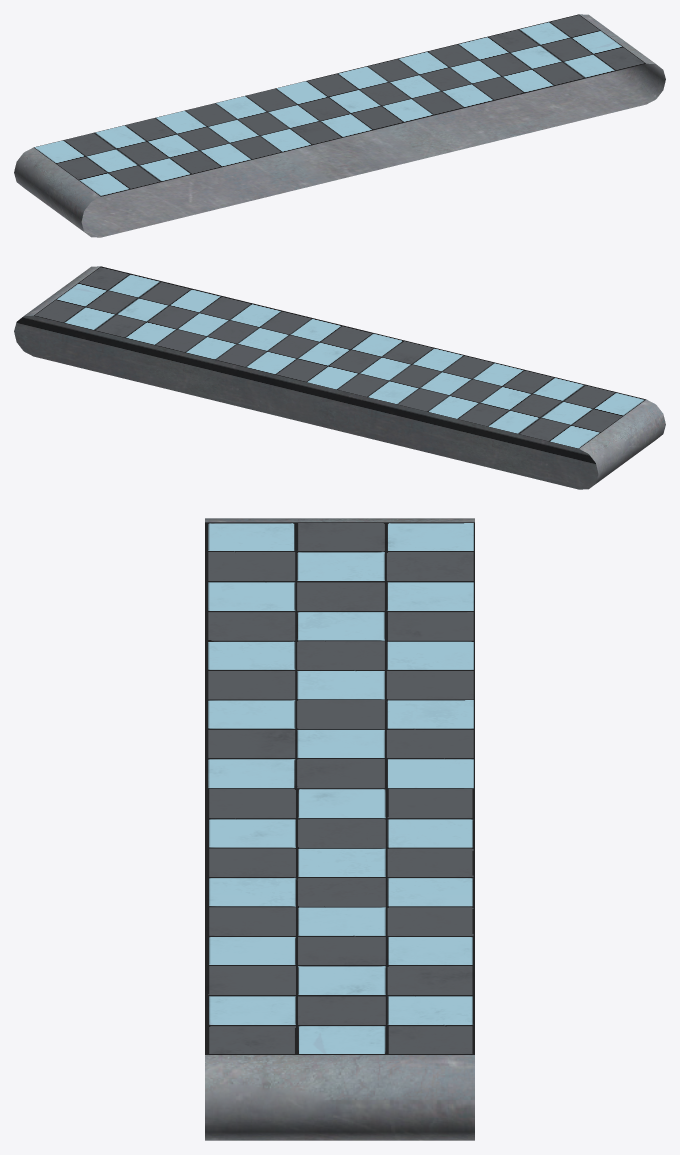
File: Disco_Background_Platform.fbx
3 views of the same model, one above another, from view 1: azimuth 30°, elevation 25°; view 2: azimuth 150°, elevation 25°; view 3: azimuth 270°, elevation 25° (orthographic). The views are drawn at different scales.
Parts seen in each view (by area): view 1: pSphere41; view 2: pSphere41; view 3: pSphere41.
Boxes of the visible parts, x1,y1,x2,y2 form: pSphere41: [14, 14, 665, 237]; pSphere41: [14, 266, 665, 489]; pSphere41: [205, 518, 474, 1140].
Bounding box in the file's own units: 1500 × 100 × 300.
